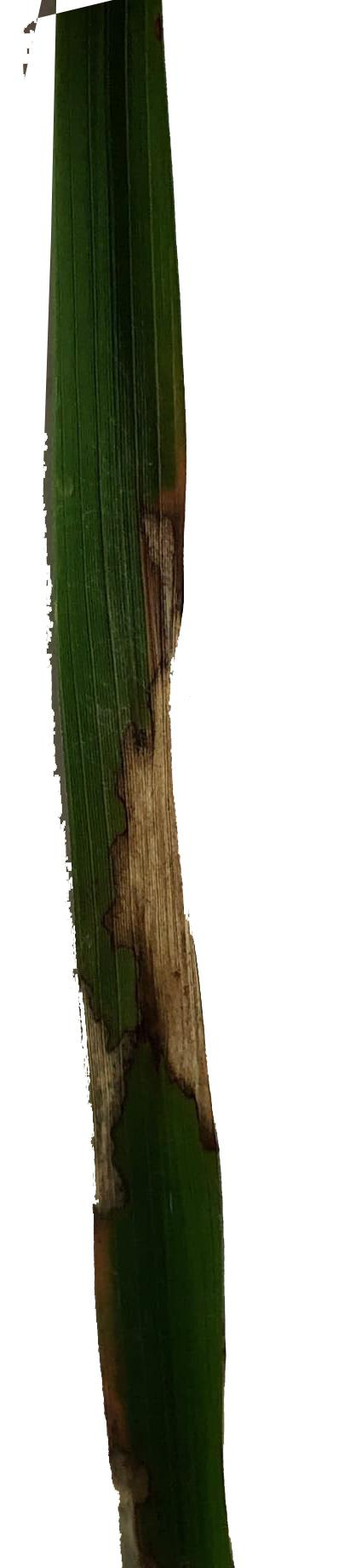Blight: (51, 533, 221, 1197), (183, 963, 238, 971)
